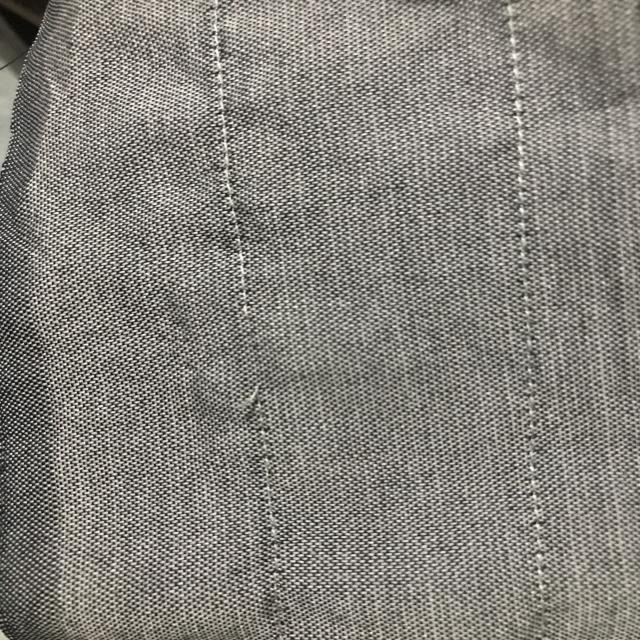broken: (177, 292, 313, 432)
good: (208, 148, 256, 267)
